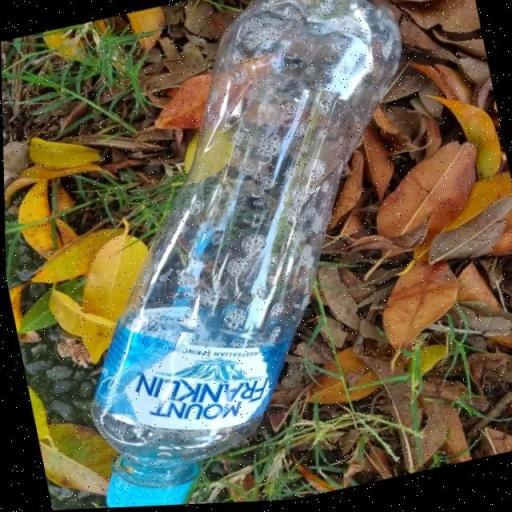plastic: (89, 0, 403, 509)
